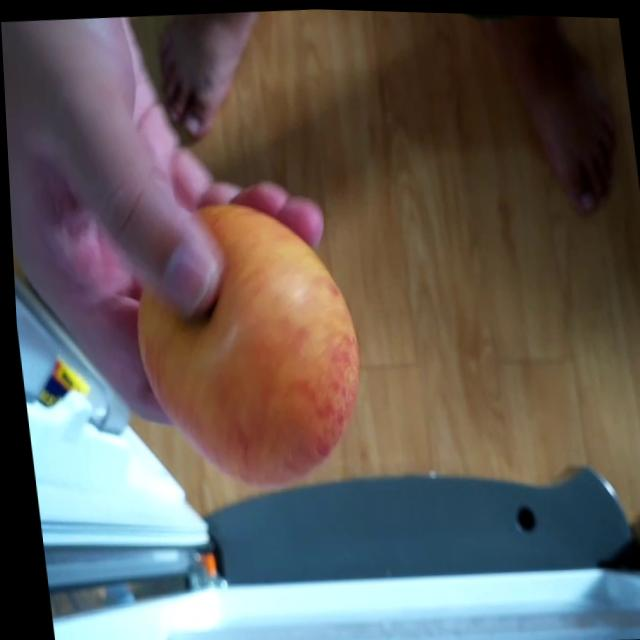apple: (112, 192, 365, 500)
